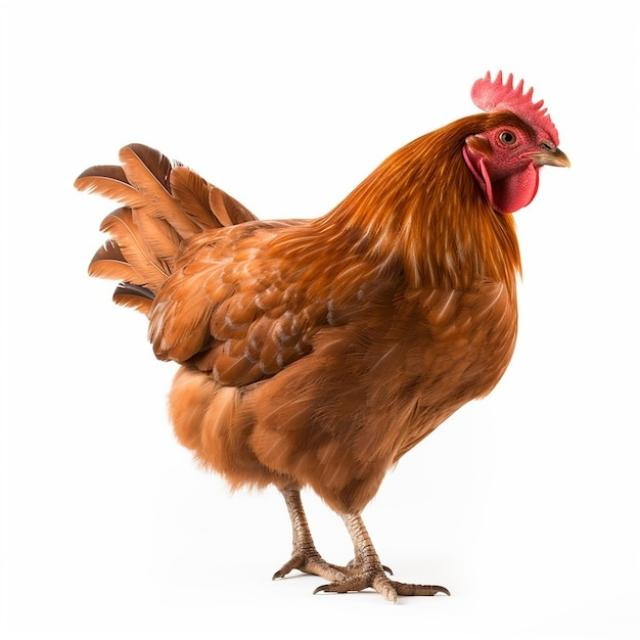Chicken: (75, 68, 572, 600)
